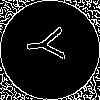Y: (25, 25, 74, 64)
